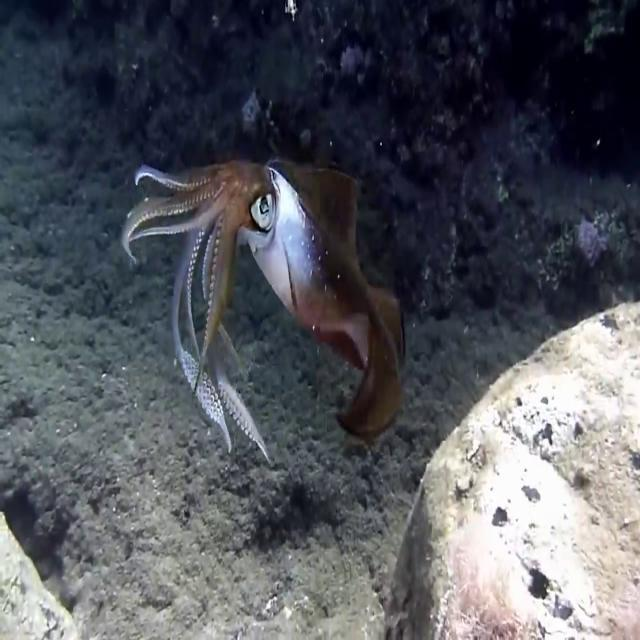SQUID: (105, 138, 422, 485)
